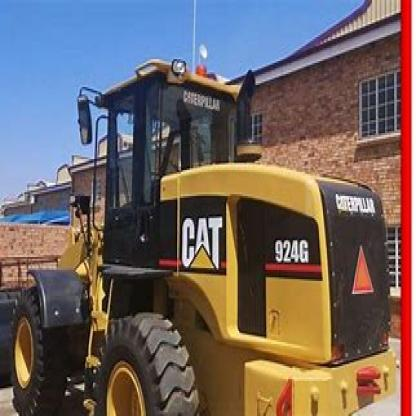bull_dozer/loader/grader: (3, 56, 395, 414)
